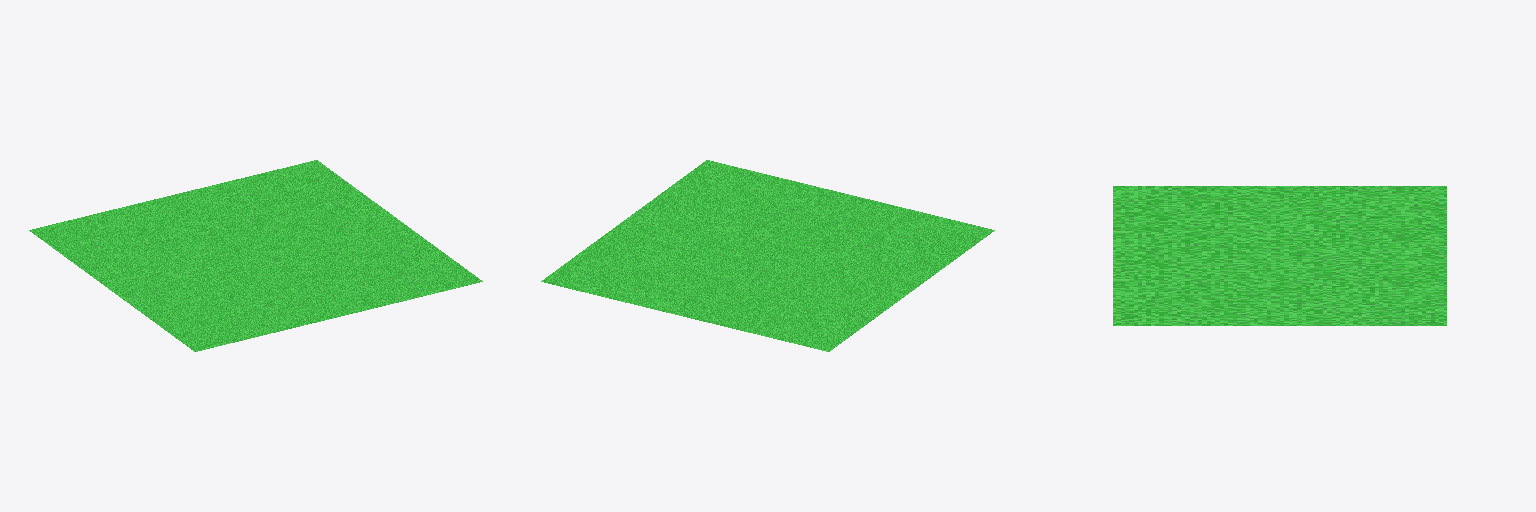
3 views of the same model, side by side, from view 1: azimuth 30°, elevation 25°; view 2: azimuth 150°, elevation 25°; view 3: azimuth 270°, elevation 25° (orthographic).
Visible parts, largest first — view 1: Plane001; view 2: Plane001; view 3: Plane001.
Boxes of the visible parts, x1,y1,x2,y2 form: Plane001: [29, 160, 482, 351]; Plane001: [541, 160, 994, 351]; Plane001: [1113, 186, 1446, 325].
Bounding box in the file's own units: 200 × 0 × 200.
1 materials, 1 textured.